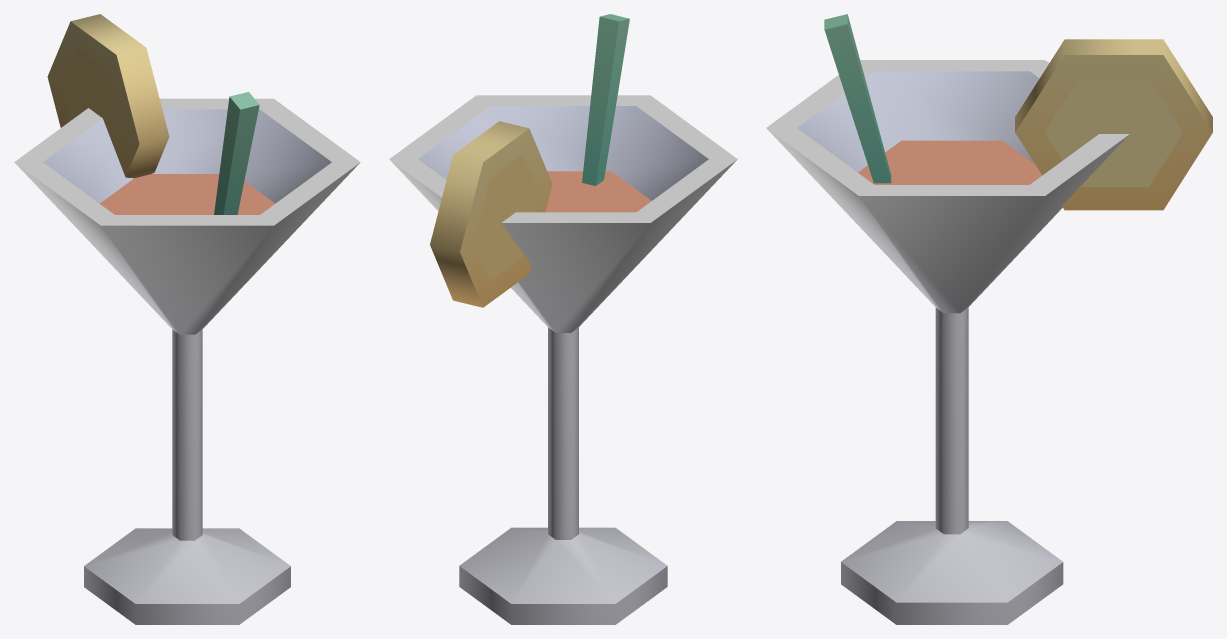
The model's file is cocktail.glb.
3 renders of one model, left to right at view 1: azimuth 30°, elevation 25°; view 2: azimuth 150°, elevation 25°; view 3: azimuth 270°, elevation 25°, orthographic. The views are drawn at different scales.
Parts seen in each view (by area): view 1: cocktail; view 2: cocktail; view 3: cocktail.
Part boxes in pixels (x1=…): cocktail: x1=14, y1=14, x2=360, y2=624; cocktail: x1=389, y1=14, x2=737, y2=624; cocktail: x1=766, y1=14, x2=1212, y2=624.
Size of the model in its own units: 0.2607 by 0.5059 by 0.3615.
